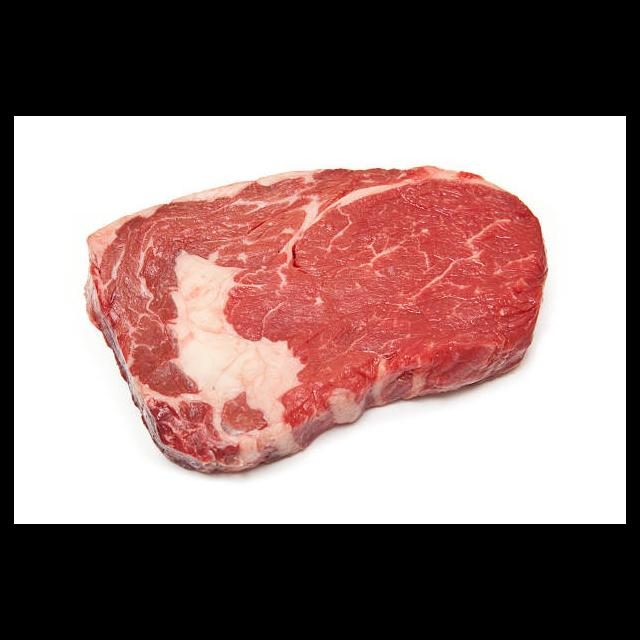beef: (83, 164, 549, 476)
